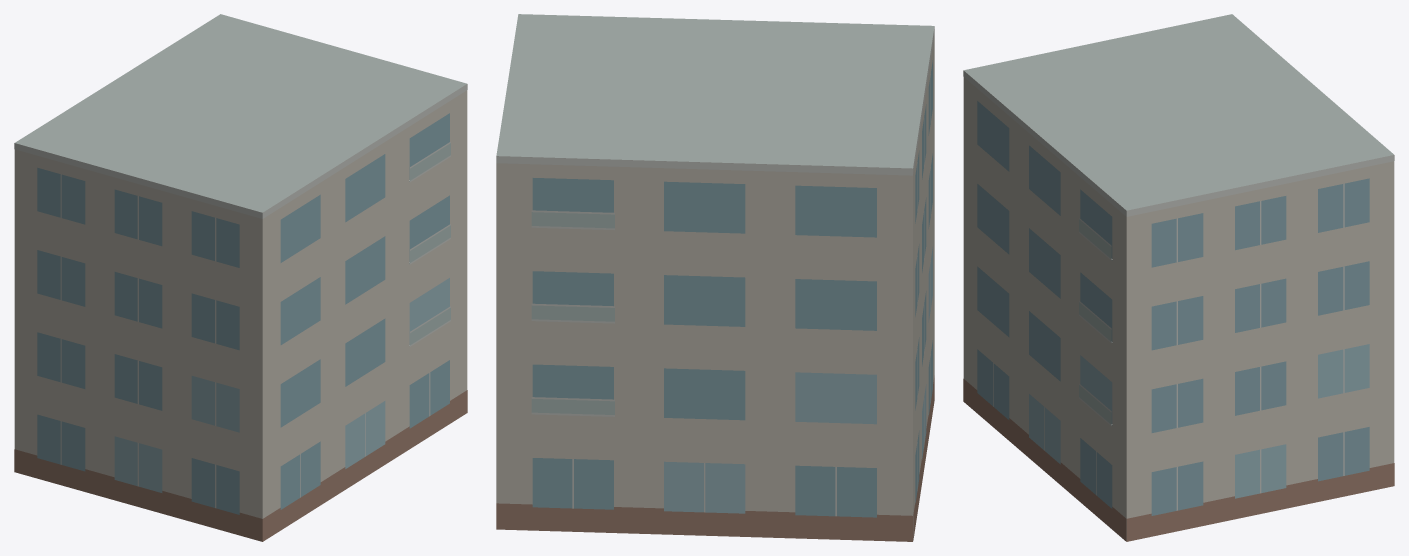
The model's file is survey-upis-32736542.glb.
3 views of the same model, side by side, from view 1: azimuth 30°, elevation 25°; view 2: azimuth 150°, elevation 25°; view 3: azimuth 270°, elevation 25° (orthographic). The views are drawn at different scales.
Parts seen in each view (by area): view 1: survey-upis-32736542.tmp; view 2: survey-upis-32736542.tmp; view 3: survey-upis-32736542.tmp.
Part boxes in pixels (x1,y1,x2,y2): survey-upis-32736542.tmp: (14, 14, 467, 541); survey-upis-32736542.tmp: (496, 14, 934, 541); survey-upis-32736542.tmp: (963, 14, 1394, 541).
Size of the model in its own units: 16.31 by 12.8 by 15.11.
